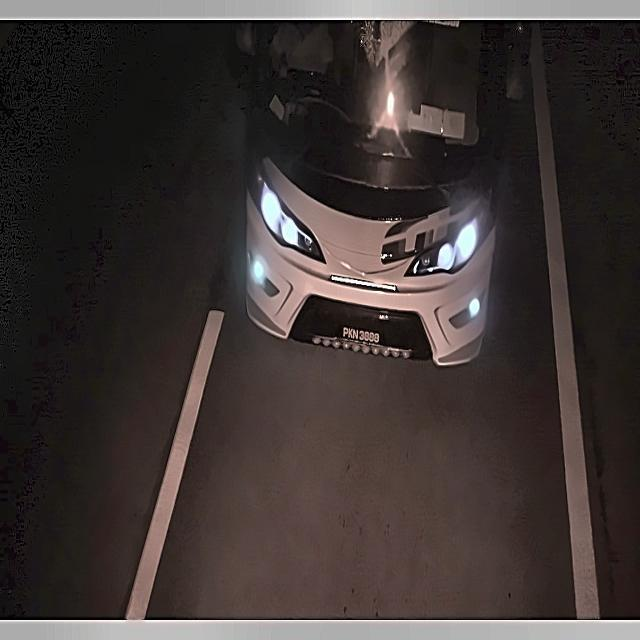car: (336, 321, 386, 353)
